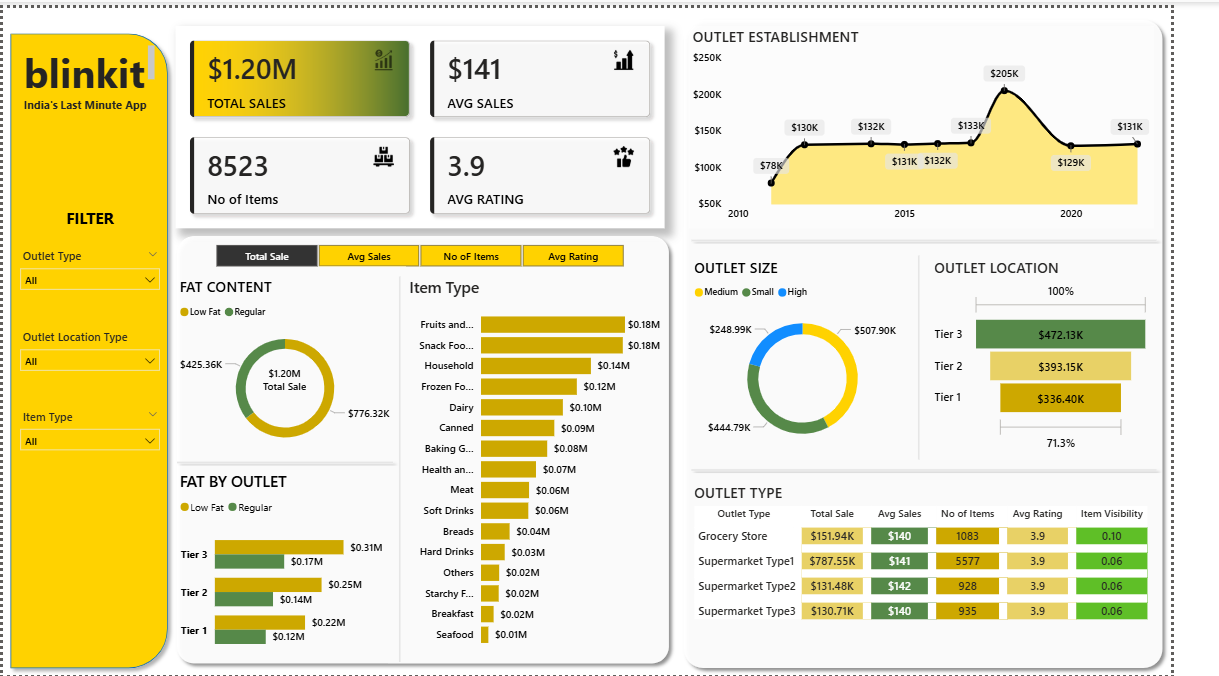

What the dashboard file says about the page in this screenshot:
{"tool":"powerbi","page":{"name":"Page 1","canvas":[1400,800],"ordinal":0},"visuals":[{"type":"shape","box":[0,21.6,206.9,779],"z":0},{"type":"textbox","box":[19.8,39.6,167.3,61.2],"z":1000},{"type":"textbox","box":[19.8,100.8,167.3,30.6],"z":2000},{"type":"cardVisual","fields":{"Data":["BlinkIT Grocery Data.Total Sale","BlinkIT Grocery Data.Avg Sales","BlinkIT Grocery Data.NO OF ITEMS","BlinkIT Grocery Data.Avg Rating"]},"box":[206.9,21.6,586.5,242.9],"z":3000},{"type":"shape","box":[199.7,264.5,608.1,530.7],"z":4000},{"type":"donutChart","title":"FAT CONTENT","fields":{"Y":["BlinkIT Grocery Data.Total Sale"],"Category":["BlinkIT Grocery Data.Item Fat Content"]},"box":[206.9,322,262.7,217.7],"z":5000},{"type":"slicer","fields":{"Values":["Metrics.Parameter"]},"box":[230.3,277.1,537.9,32.4],"z":6000},{"type":"cardVisual","fields":{"Data":["BlinkIT Grocery Data.Total Sale"]},"box":[284.3,412,107.9,59.4],"z":7000},{"type":"clusteredBarChart","title":"FAT BY OUTLET","fields":{"Y":["BlinkIT Grocery Data.Total Sale"],"Series":["BlinkIT Grocery Data.Item Fat Content"],"Category":["BlinkIT Grocery Data.Outlet Location Type"]},"box":[206.9,554.1,253.7,233.9],"z":8000},{"type":"shape","box":[199.7,536.1,277.1,12.6],"z":9000},{"type":"shape","box":[942.8,170.9,300.5,12.6],"z":10000},{"type":"shape","box":[469.6,322,12.6,462.4],"z":11000},{"type":"barChart","title":"Item Type","fields":{"Y":["BlinkIT Grocery Data.Total Sale"],"Category":["BlinkIT Grocery Data.Item Type"]},"box":[482.2,322,311.3,455.2],"z":12000},{"type":"shape","box":[807.8,5.4,591.9,795.2],"z":13000},{"type":"lineChart","title":"OUTLET ESTABLISHMENT","fields":{"Y":["BlinkIT Grocery Data.Total Sale"],"Category":["BlinkIT Grocery Data.Outlet Establishment Year"]},"box":[822.2,21.6,557.7,242.9],"z":14000},{"type":"shape","box":[816.8,269.9,575.7,12.6],"z":15000},{"type":"donutChart","title":"OUTLET SIZE","fields":{"Y":["BlinkIT Grocery Data.Total Sale"],"Category":["BlinkIT Grocery Data.Outlet Size"]},"box":[824,298.7,269.9,241.1],"z":16000},{"type":"shape","box":[1092.1,296.9,12.6,244.7],"z":17000},{"type":"funnel","title":"OUTLET LOCATION","fields":{"Category":["BlinkIT Grocery Data.Outlet Location Type"],"Y":["BlinkIT Grocery Data.Total Sale"]},"box":[1111.9,298.7,268.1,237.5],"z":18000},{"type":"shape","box":[816.8,545.1,575.7,12.6],"z":19000},{"type":"pivotTable","title":"OUTLET TYPE","fields":{"Rows":["BlinkIT Grocery Data.Outlet Type"],"Values":["BlinkIT Grocery Data.Total Sale","BlinkIT Grocery Data.Avg Sales","BlinkIT Grocery Data.No of Items","BlinkIT Grocery Data.Avg Rating","Avg(BlinkIT Grocery Data.Item Visibility)"]},"box":[824,568.5,555.9,215.9],"z":20000},{"type":"slicer","fields":{"Values":["BlinkIT Grocery Data.Outlet Type"]},"box":[10.8,282.5,187.1,77.4],"z":21000},{"type":"slicer","fields":{"Values":["BlinkIT Grocery Data.Outlet Location Type"]},"box":[10.8,379.6,187.1,77.4],"z":22000},{"type":"slicer","fields":{"Values":["BlinkIT Grocery Data.Item Type"]},"box":[10.8,475,187.1,77.4],"z":23000},{"type":"textbox","box":[10.8,233.9,187.1,36],"z":24000}]}

Visuals, with their boxes on the page's 1400x800 design canvas (x1, y1, x2, y2). These are canvas units, not pixel positions in the 1219x676 screenshot, which may show the page scaled, cropped or inside an application window:
shape: <region>0, 22, 207, 801</region>
textbox: <region>20, 40, 187, 101</region>
textbox: <region>20, 101, 187, 131</region>
cardVisual - BlinkIT Grocery Data.Total Sale x BlinkIT Grocery Data.Avg Sales: <region>207, 22, 793, 264</region>
shape: <region>200, 264, 808, 795</region>
"FAT CONTENT" donutChart: <region>207, 322, 470, 540</region>
slicer - Metrics.Parameter: <region>230, 277, 768, 310</region>
cardVisual - BlinkIT Grocery Data.Total Sale: <region>284, 412, 392, 471</region>
"FAT BY OUTLET" clusteredBarChart: <region>207, 554, 461, 788</region>
shape: <region>200, 536, 477, 549</region>
shape: <region>943, 171, 1243, 184</region>
shape: <region>470, 322, 482, 784</region>
"Item Type" barChart: <region>482, 322, 794, 777</region>
shape: <region>808, 5, 1400, 801</region>
"OUTLET ESTABLISHMENT" lineChart: <region>822, 22, 1380, 264</region>
shape: <region>817, 270, 1392, 282</region>
"OUTLET SIZE" donutChart: <region>824, 299, 1094, 540</region>
shape: <region>1092, 297, 1105, 542</region>
"OUTLET LOCATION" funnel: <region>1112, 299, 1380, 536</region>
shape: <region>817, 545, 1392, 558</region>
"OUTLET TYPE" pivotTable: <region>824, 568, 1380, 784</region>
slicer - BlinkIT Grocery Data.Outlet Type: <region>11, 282, 198, 360</region>
slicer - BlinkIT Grocery Data.Outlet Location Type: <region>11, 380, 198, 457</region>
slicer - BlinkIT Grocery Data.Item Type: <region>11, 475, 198, 552</region>
textbox: <region>11, 234, 198, 270</region>
